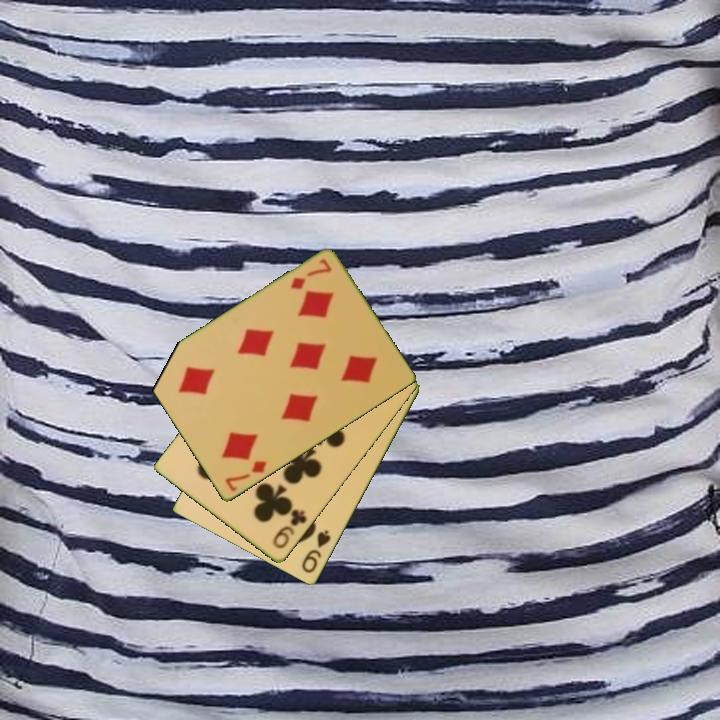7d: (221, 457, 270, 495), (286, 255, 335, 293)
9c: (269, 506, 310, 552)
9s: (298, 526, 334, 577)
